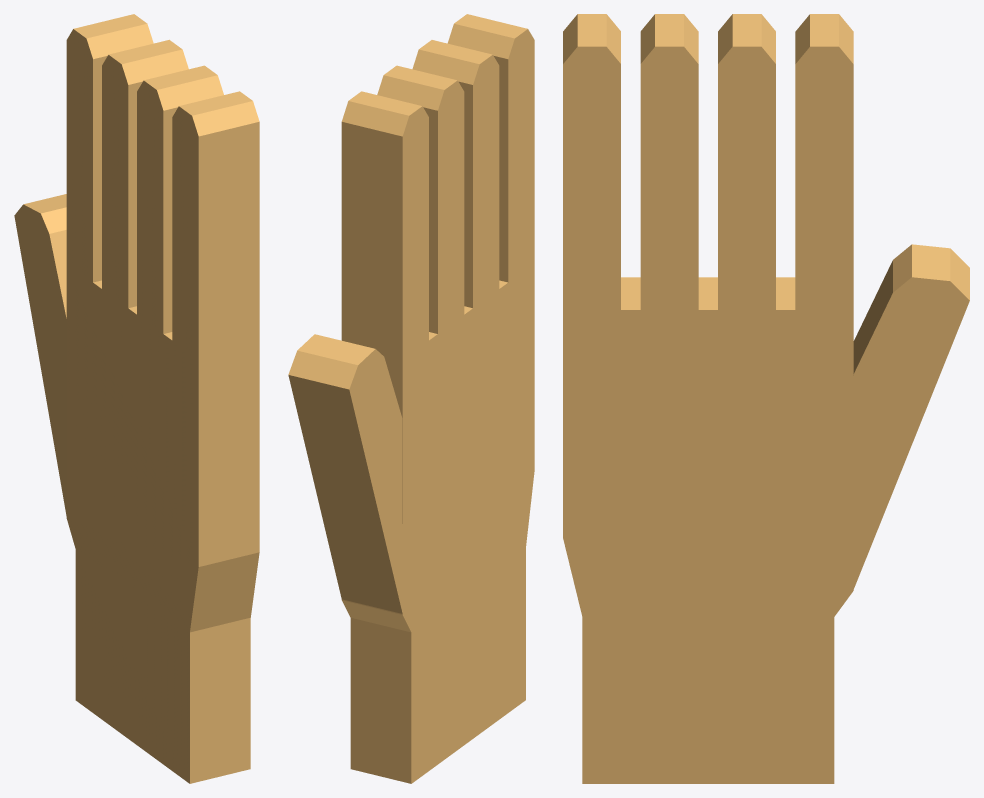
File: Hand.glb
3 renders of one model, left to right at view 1: azimuth 30°, elevation 25°; view 2: azimuth 150°, elevation 25°; view 3: azimuth 270°, elevation 25°, orthographic. The views are drawn at different scales.
Visible parts, largest first — view 1: cube, cube_node_4, cube_node_2, cube_node, cube_node_1, cube_node_0, cube_node_3; view 2: cube_node_4, cube, cube_node_3, cube_node, cube_node_0, cube_node_2, cube_node_1; view 3: cube, cube_node_4, cube_node_3, cube_node, cube_node_1, cube_node_0, cube_node_2.
Part boxes in pixels (x1,y1,x2,y2): cube: (66, 263, 259, 566); cube_node_4: (66, 518, 259, 783); cube_node_2: (172, 91, 259, 359); cube_node: (66, 14, 153, 282); cube_node_1: (137, 65, 223, 333); cube_node_0: (102, 39, 188, 308); cube_node_3: (14, 194, 66, 515); cube_node_4: (342, 471, 534, 783); cube: (341, 263, 534, 614); cube_node_3: (288, 334, 402, 613); cube_node: (341, 91, 428, 359); cube_node_0: (377, 65, 464, 333); cube_node_2: (447, 14, 534, 282); cube_node_1: (412, 40, 499, 308); cube: (563, 277, 853, 590); cube_node_4: (563, 538, 852, 783); cube_node_3: (851, 244, 969, 589); cube_node: (795, 14, 853, 309); cube_node_1: (640, 14, 698, 309); cube_node_0: (718, 14, 775, 309); cube_node_2: (563, 14, 620, 309).
Bounding box in the file's own units: 0.2523 × 2.62 × 1.31.
Materials: 1 (1 with a texture image).
